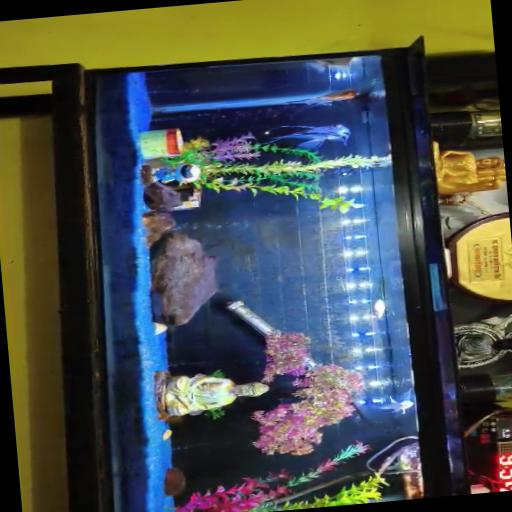Fish: (271, 124, 349, 149), (287, 90, 358, 105), (379, 393, 413, 414), (312, 90, 357, 101), (312, 57, 352, 67), (372, 299, 385, 319), (161, 430, 171, 440)
